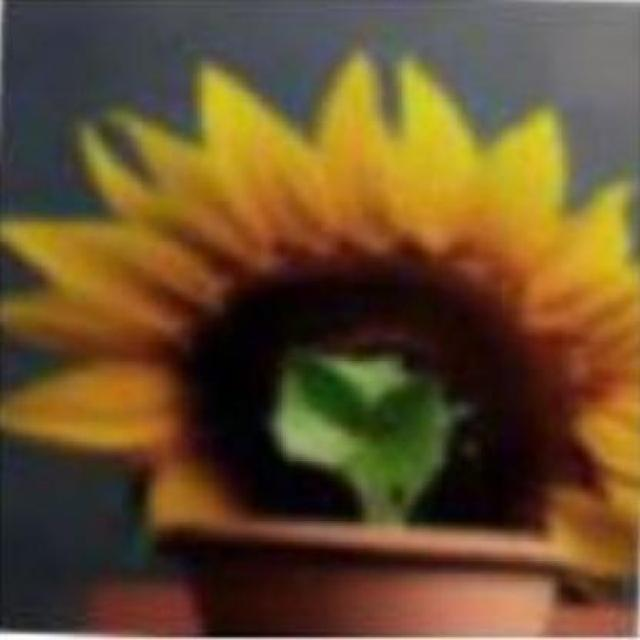sunflower: (34, 55, 640, 558)
